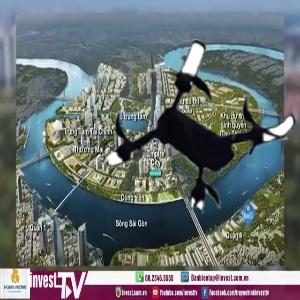drone: (103, 25, 300, 222)
